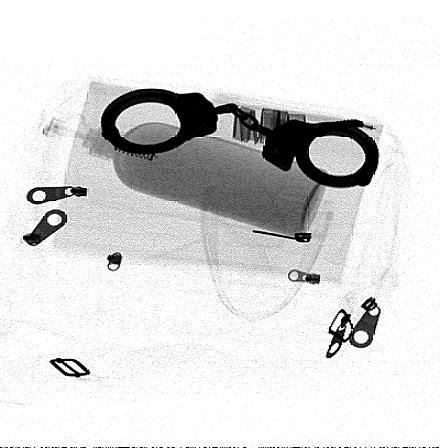HandCuffs: (101, 88, 379, 188)
